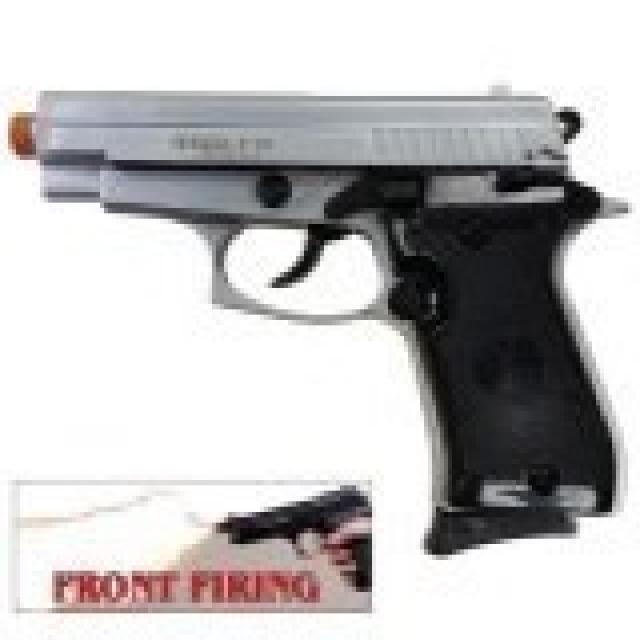Gun: (4, 61, 639, 558)
